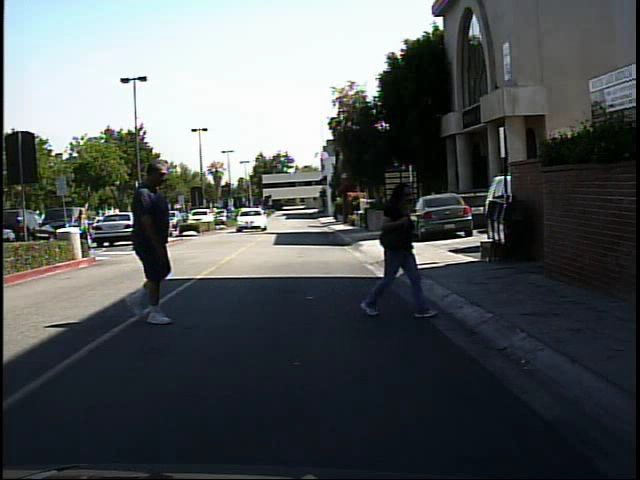person: (102, 159, 199, 329), (367, 170, 442, 322), (69, 203, 90, 258)
